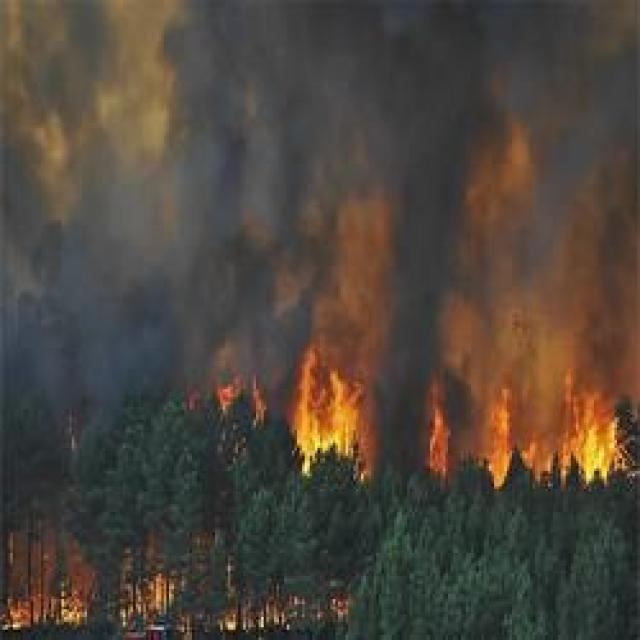Fire: (294, 367, 362, 454), (576, 406, 620, 474), (491, 396, 516, 482)
